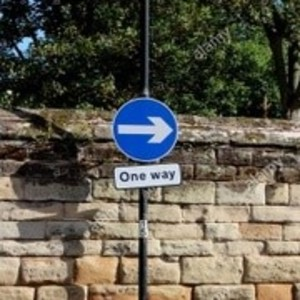trun_right: (113, 96, 176, 162)
